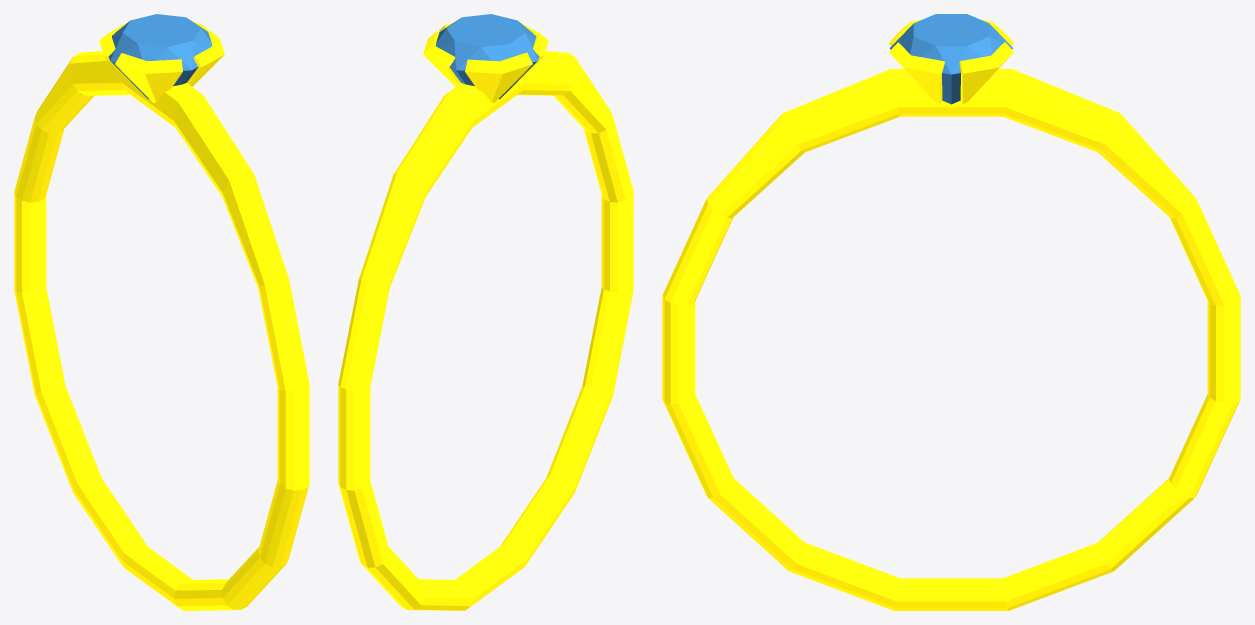
File: ring.fbx
The picture shows the model from 3 angles, left to right: view 1: azimuth 30°, elevation 25°; view 2: azimuth 150°, elevation 25°; view 3: azimuth 270°, elevation 25°; orthographic projection. The views are drawn at different scales.
Parts seen in each view (by area): view 1: ring; view 2: ring; view 3: ring.
Boxes of the visible parts, <box> form: ring: <box>14,14,309,610</box>; ring: <box>338,14,633,610</box>; ring: <box>662,14,1240,610</box>.
Bounding box in the file's own units: 1.23 × 6.25 × 5.65.
